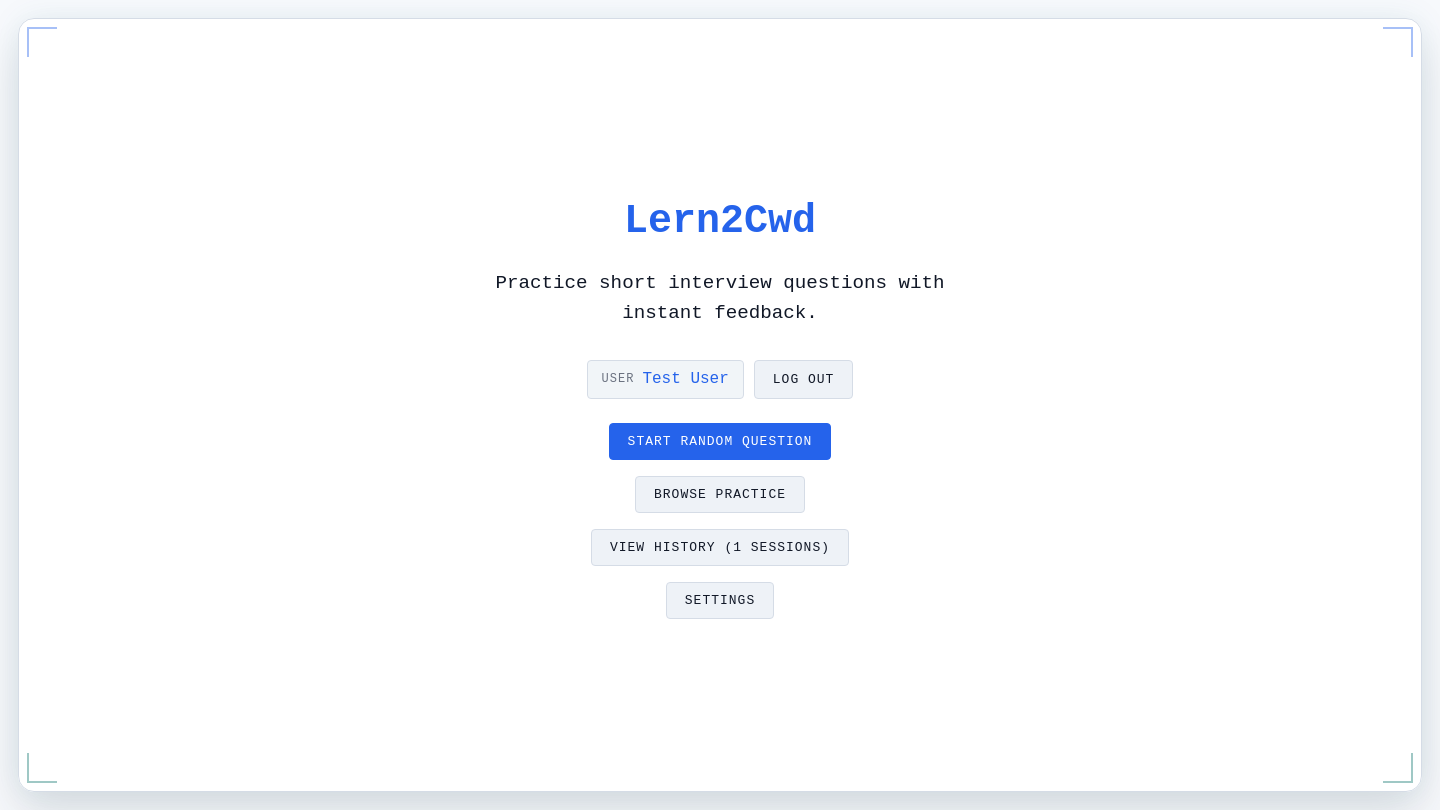
Test case: App session context › shows enabled campaign sets with attempt status and launches a chosen problem
Step 1. Click the button with test id "browse-campaign-button" → x=720, y=495, box [635,476,805,513]
(page scrolled)
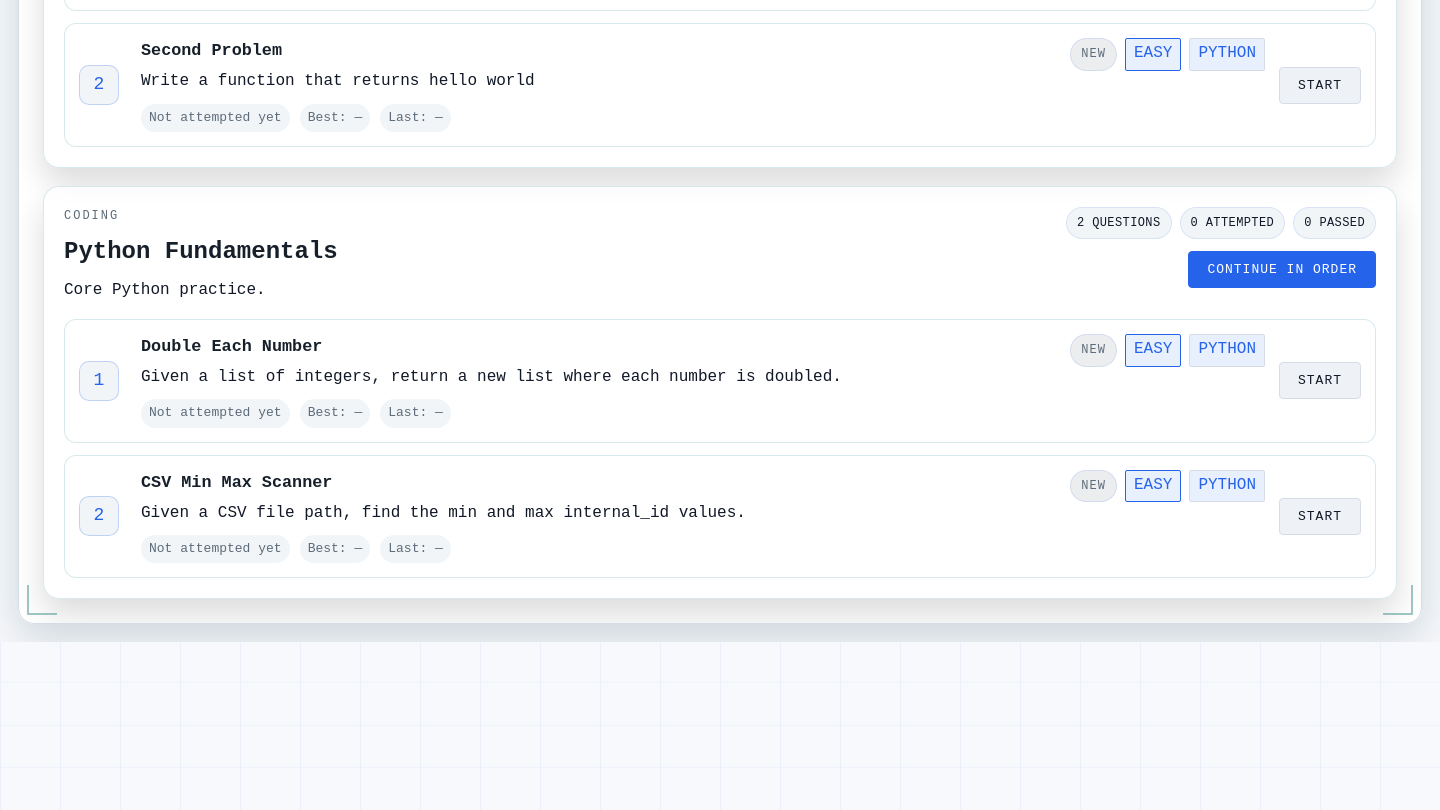
expect the element with test id "campaign-set-python-fundamentals" is shown: met, box [43,186,1397,599]
Step 2. Click the 3rd button "Start" → x=1320, y=516, box [1279,498,1361,535]
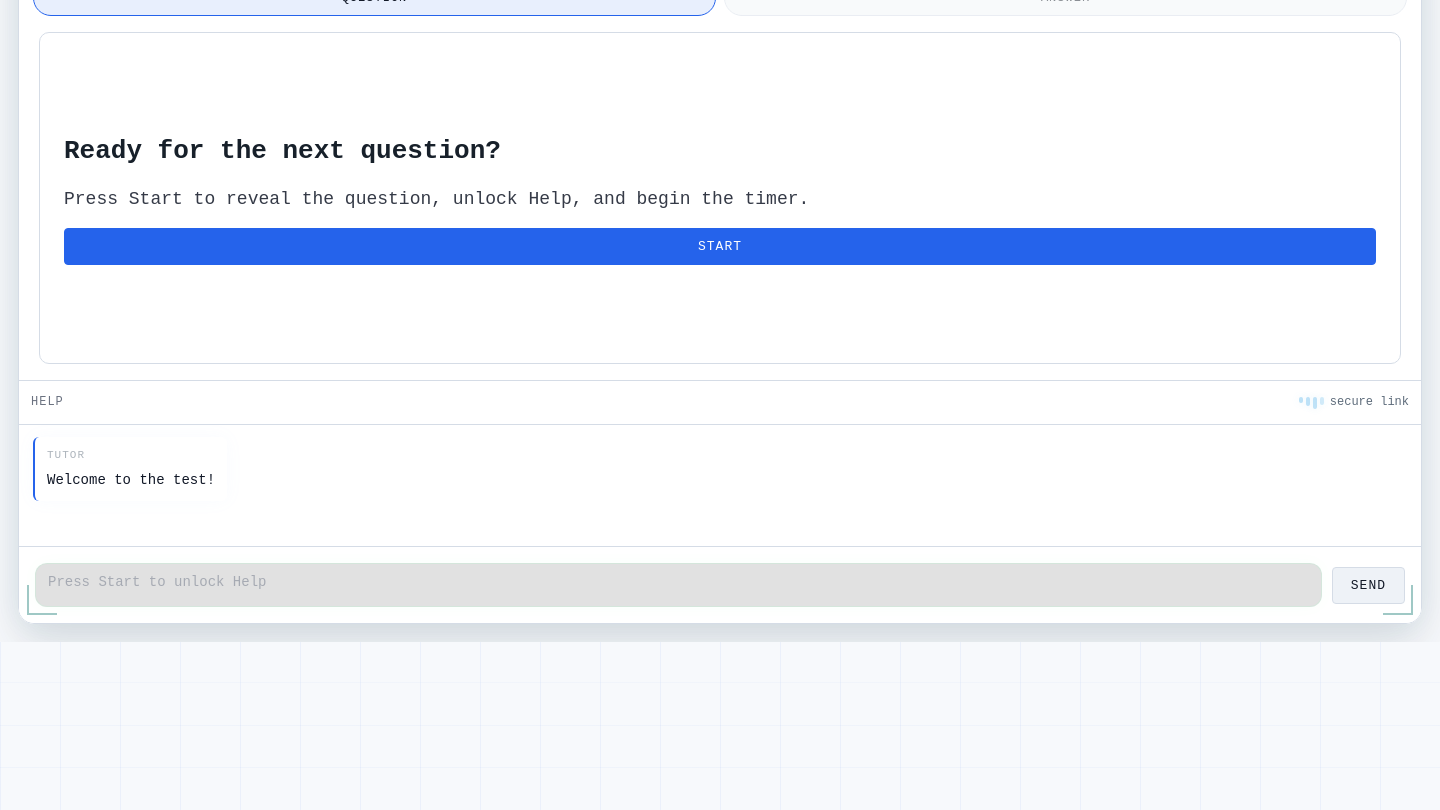
expect the button "Start" is shown: met
Step 3. Click the button "Start" → x=720, y=246, box [64,228,1376,265]
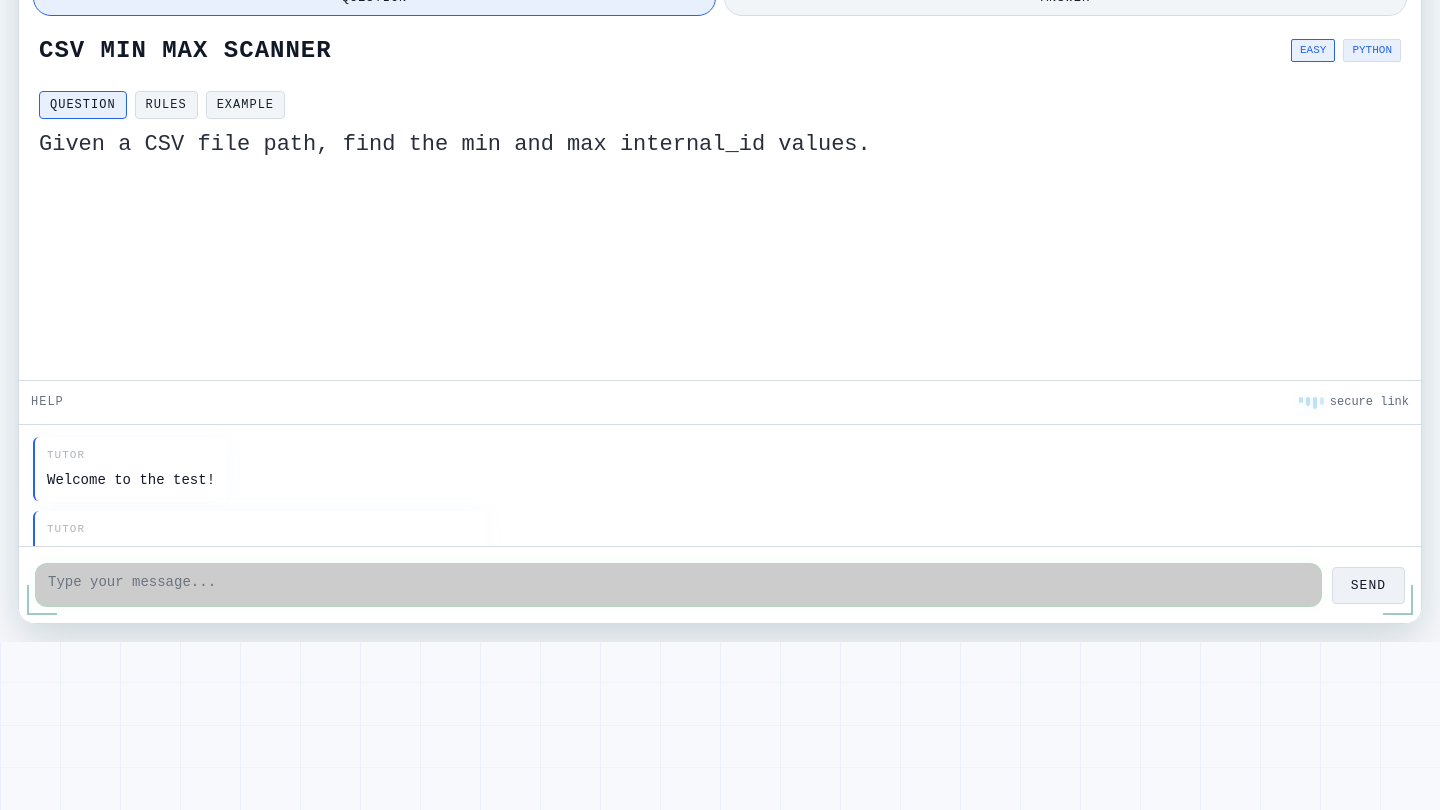
expect the heading "CSV Min Max Scanner" is shown: met, box [39,32,332,69]
